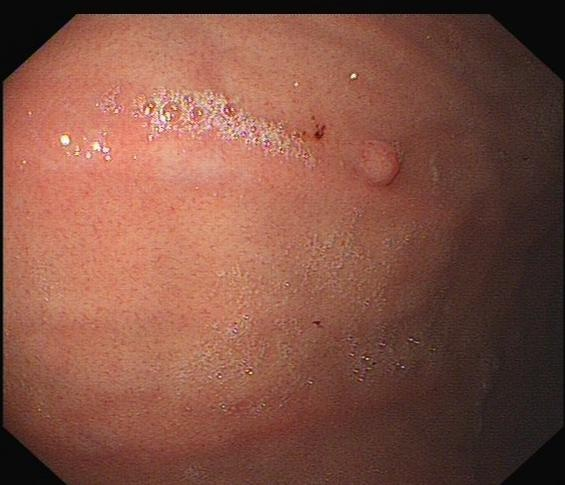Polyp: (358, 126, 418, 190)
